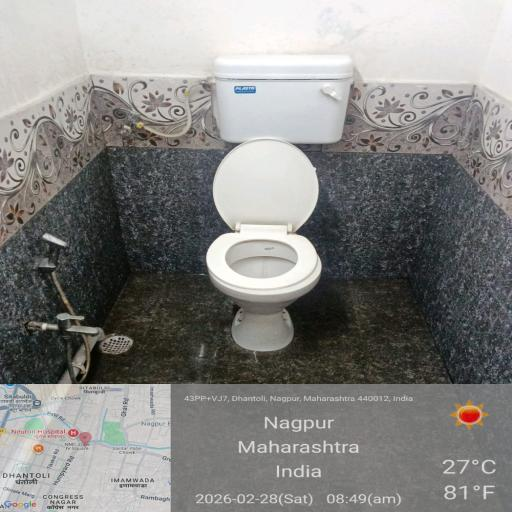clean_floor: (3, 150, 485, 486)
clean_western: (165, 9, 405, 381)
